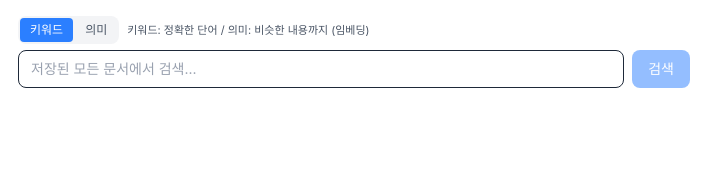
Test case: GlobalSearch › 모드 전환 시 이전 모드의 결과/안내가 검색-전 상태로 리셋
# 키워드 검색 → 결과 렌더
Type "프로세스" into the field named "문서 검색" at (321, 69), box left=18, top=50, right=624, bottom=88
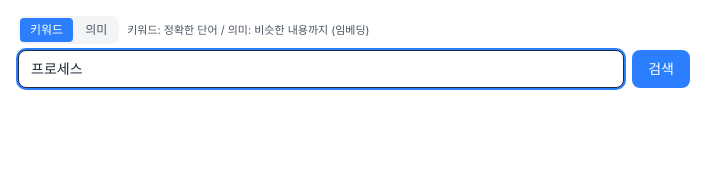
Click the button "검색" at (661, 69), box left=632, top=50, right=690, bottom=88
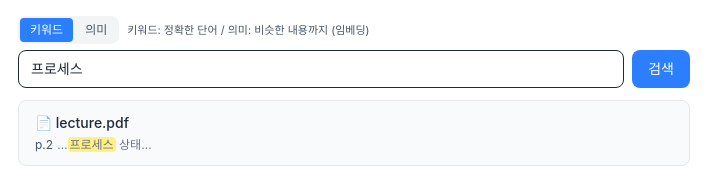
Expected: the text "📄 lecture.pdf" is shown, left=35, top=113, right=129, bottom=133
Click the button "의미" at (96, 30), box left=75, top=18, right=117, bottom=42
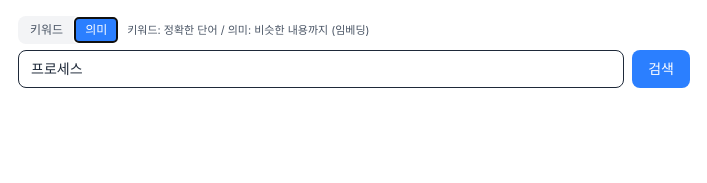
Expected: the button "lecture.pdf" is gone
